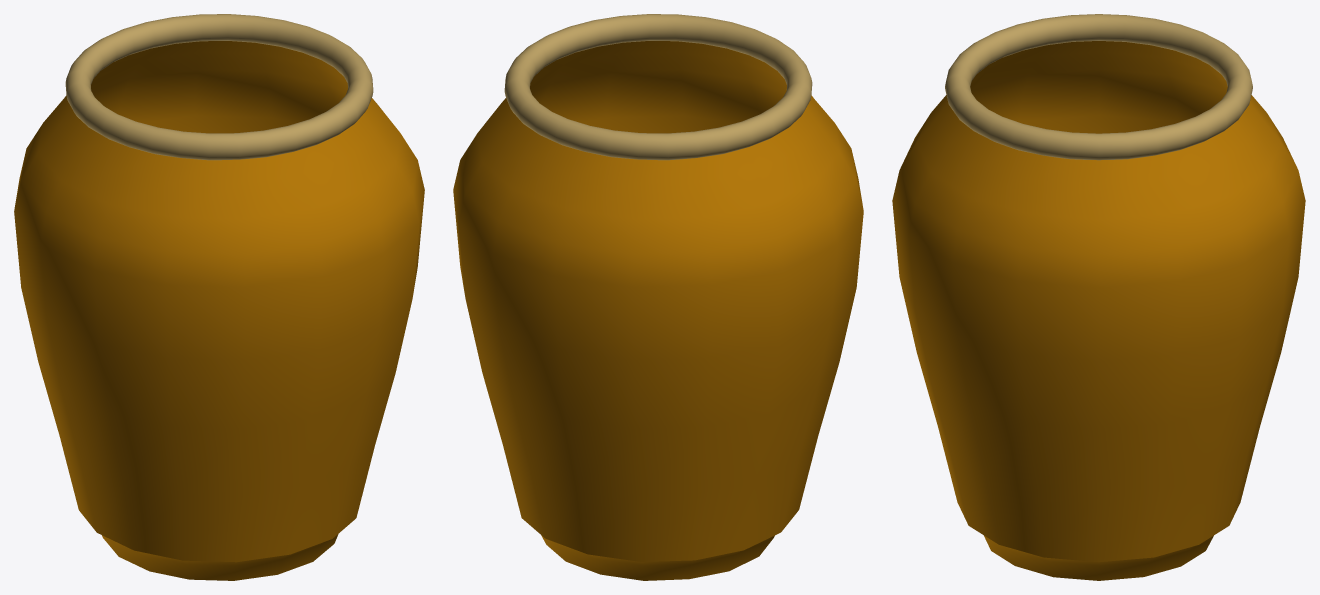
3 views of the same model, side by side, from view 1: azimuth 30°, elevation 25°; view 2: azimuth 150°, elevation 25°; view 3: azimuth 270°, elevation 25° (orthographic).
Visible parts, largest first — view 1: 2541001; view 2: 2541001; view 3: 2541001.
Part boxes in pixels (left/top/right/bottom): 2541001: left=14, top=14, right=424, bottom=580; 2541001: left=453, top=14, right=863, bottom=580; 2541001: left=892, top=14, right=1305, bottom=580.
Size of the model in its own units: 100 by 122 by 100.
